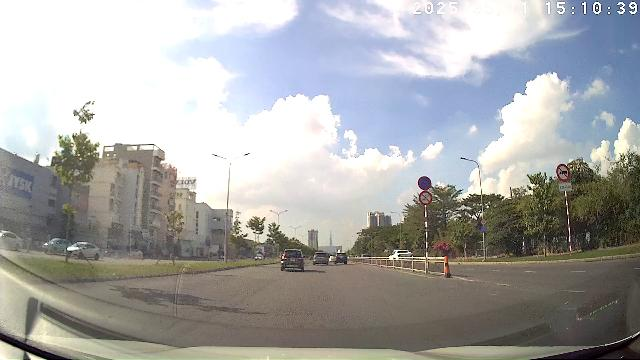130-cam-dung-va-do-xe: (418, 176, 432, 190)
